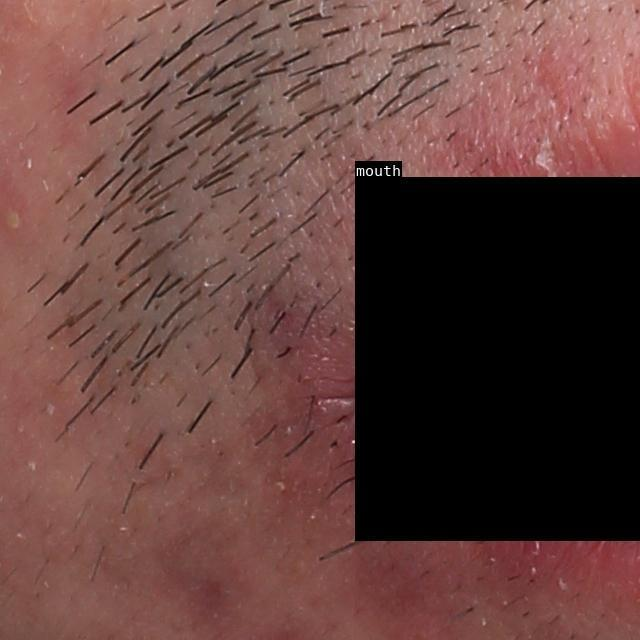pustule: (0, 202, 31, 237)
